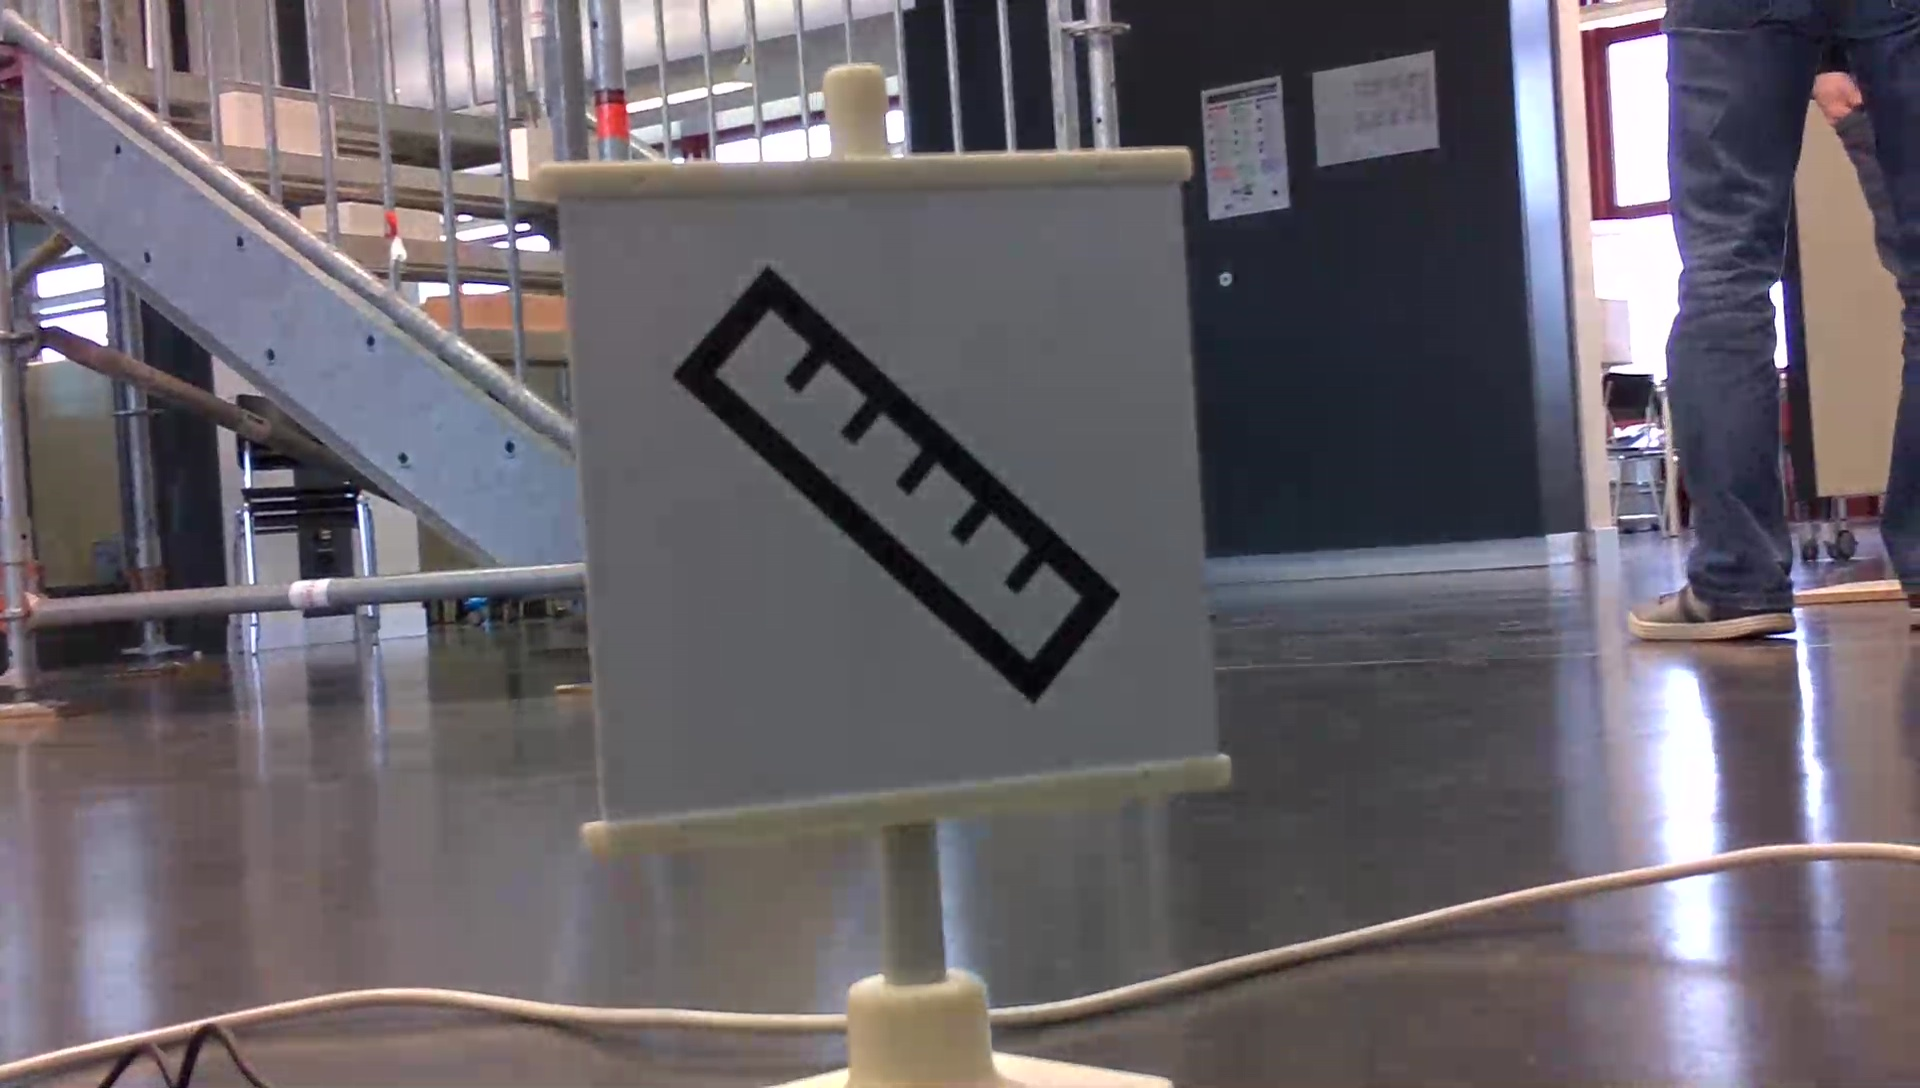ruler: (665, 261, 1117, 691)
